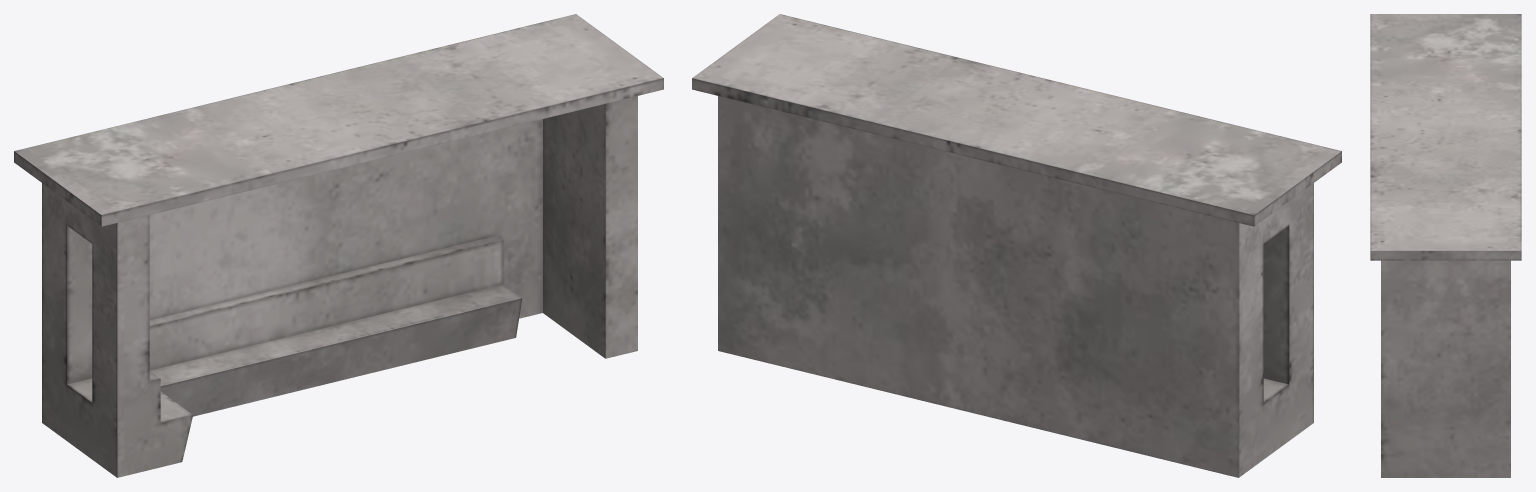
File: shelter_336.glb
The picture shows the model from 3 angles, left to right: view 1: azimuth 30°, elevation 25°; view 2: azimuth 150°, elevation 25°; view 3: azimuth 270°, elevation 25°; orthographic projection. The views are drawn at different scales.
Parts seen in each view (by area): view 1: shelter_336; view 2: shelter_336; view 3: shelter_336.
Boxes of the visible parts, x1,y1,x2,y2 form: shelter_336: (14, 14, 663, 477); shelter_336: (692, 14, 1341, 477); shelter_336: (1370, 14, 1521, 477).
Size of the model in its own units: 5.61 by 2.6 by 1.52.
Materials: 1 (1 with a texture image).
